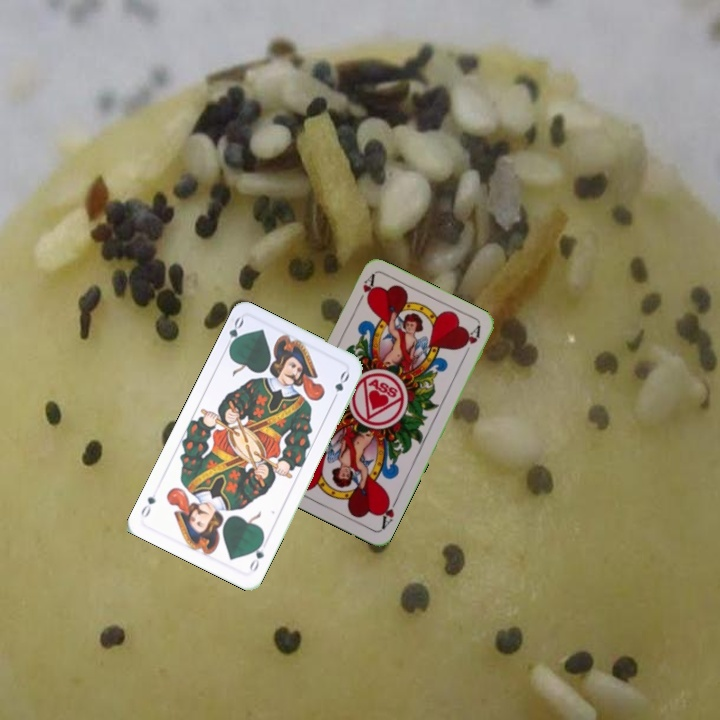GO: (221, 313, 246, 353), (245, 536, 267, 574)
HA: (376, 493, 401, 532), (352, 271, 377, 309)
